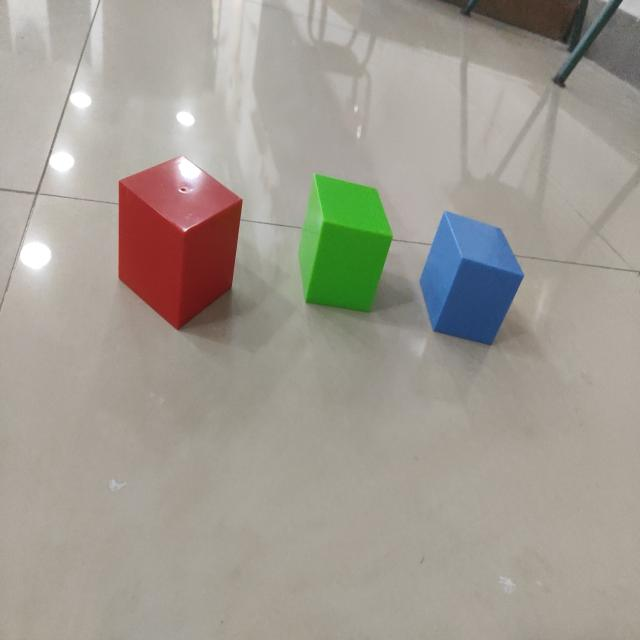blue: (418, 212, 525, 348)
green: (298, 175, 393, 316)
red: (117, 157, 244, 331)
